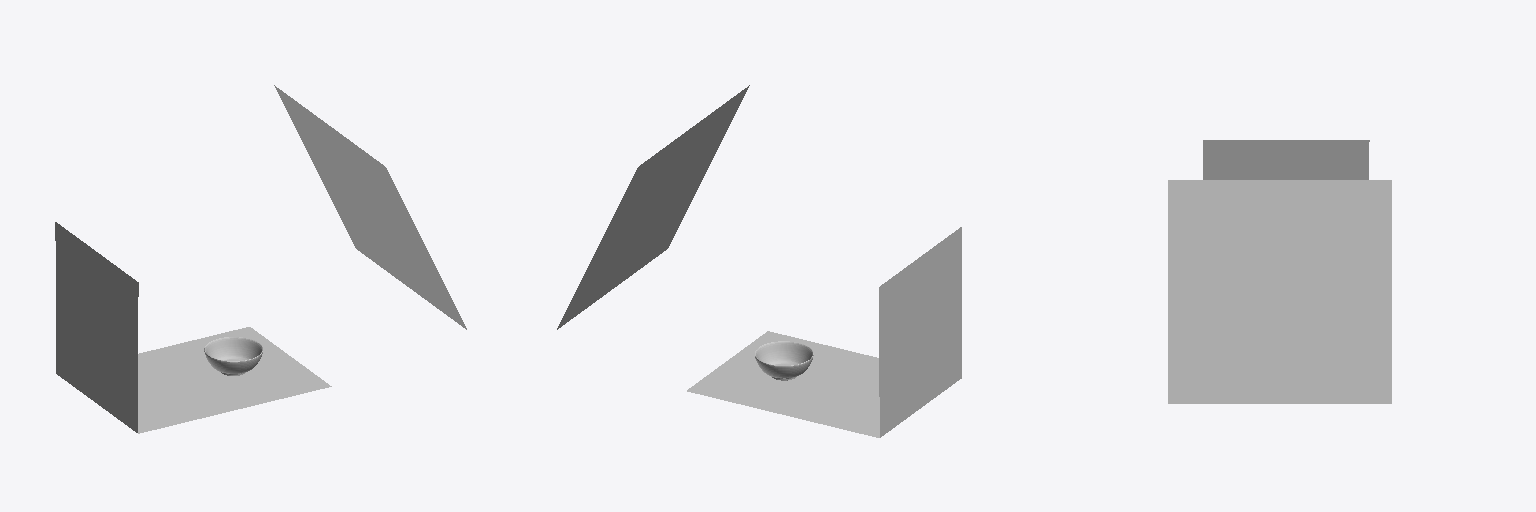
The model's file is Bowl.obj.
The picture shows the model from 3 angles: view 1: azimuth 30°, elevation 25°; view 2: azimuth 150°, elevation 25°; view 3: azimuth 270°, elevation 25°; orthographic projection.
Parts seen in each view (by area): view 1: Plane.001, Plane, Bowl_Cylinder.001; view 2: Plane.001, Plane, Bowl_Cylinder.001; view 3: Plane, Plane.001.
Boxes of the visible parts, x1,y1,x2,y2 form: Plane.001: [55, 222, 331, 433]; Plane: [274, 85, 466, 329]; Bowl_Cylinder.001: [204, 337, 262, 375]; Plane.001: [687, 227, 961, 437]; Plane: [557, 85, 749, 329]; Bowl_Cylinder.001: [755, 341, 813, 380]; Plane: [1168, 180, 1391, 403]; Plane.001: [1203, 140, 1369, 179].
Bounding box in the file's own units: 22.93 × 15.77 × 14.27.